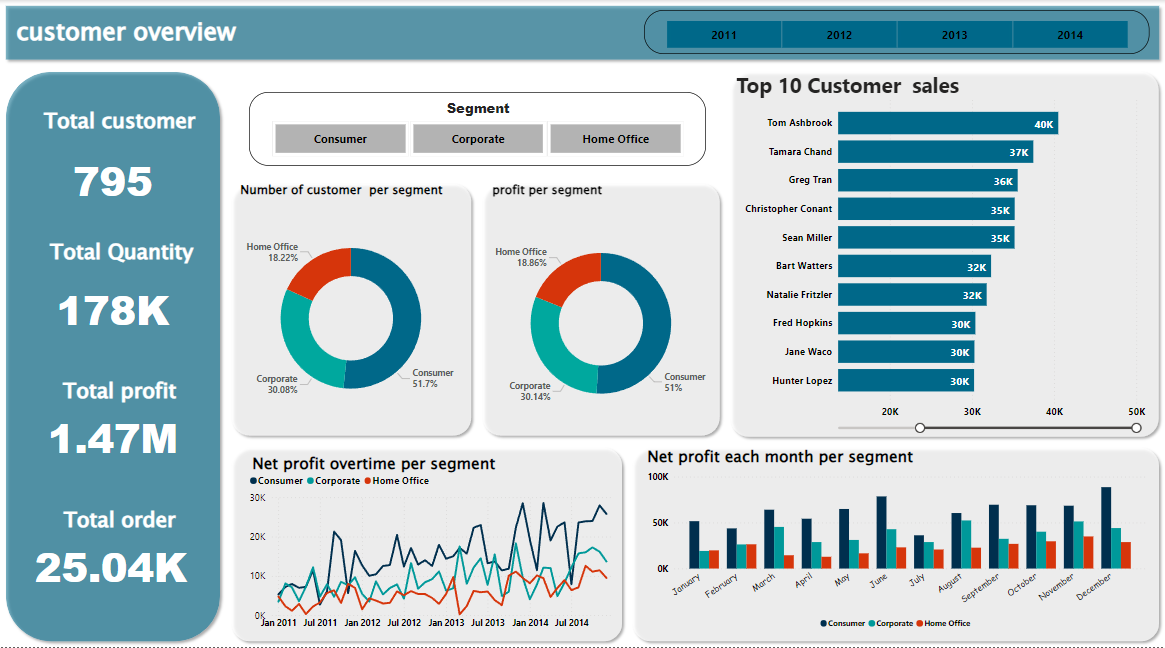

This screenshot's page, from the dashboard's own definition file:
{"tool":"powerbi","page":{"name":"customer","canvas":[1800,1000],"ordinal":0},"visuals":[{"type":"shape","box":[0,101.4,348.6,898.2],"z":0},{"type":"shape","box":[348.6,683,620.8,316.6],"z":1000},{"type":"shape","box":[969.4,683,830.6,316.6],"z":2000},{"type":"shape","box":[736.4,275.7,384.2,407.3],"z":3000},{"type":"shape","box":[0,0,1800,101.1],"z":4000},{"type":"shape","box":[1120.6,101.4,679.4,581.6],"z":5000},{"type":"textbox","box":[19.6,16,375.3,67.6],"z":6000},{"type":"card","fields":{"Values":["Count(FOrder.customerID)"]},"box":[23.1,225.9,302.4,99.6],"z":7000},{"type":"card","fields":{"Values":["Sum(FOrder.Quantity)"]},"box":[23.1,424.5,302.4,99.6],"z":8000},{"type":"card","fields":{"Values":["Count(FOrder.orderID)"]},"box":[19.6,821.7,302.4,99.6],"z":9000},{"type":"card","fields":{"Values":["Sum(FOrder.profit)"]},"box":[23.1,623.1,302.4,99.6],"z":10000},{"type":"shape","box":[348.6,275.7,387.7,407.3],"z":11000},{"type":"barChart","fields":{"Category":["Customer.customerName"],"Y":["Sum(FOrder.Sales)"]},"box":[1145.5,142.3,629.6,530],"z":12000},{"type":"donutChart","fields":{"Category":["Customer.Segment"],"Y":["CountNonNull(FOrder.customerID)"]},"box":[366.4,318.4,352.2,346.8],"z":13000},{"type":"lineChart","fields":{"Series":["Customer.Segment"],"Y":["Sum(FOrder.profit)"],"Category":["Data.orderDate.Variation.Date Hierarchy.Year","Data.orderDate.Variation.Date Hierarchy.Month"]},"box":[380.6,722.1,588.7,259.7],"z":14000},{"type":"clusteredColumnChart","fields":{"Series":["Customer.Segment"],"Y":["Sum(FOrder.profit)"],"Category":["Data.orderDate.Variation.Date Hierarchy.Month"]},"box":[994.3,722.1,780.8,259.7],"z":15000},{"type":"slicer","title":"Segment","fields":{"Values":["Customer.Segment"]},"box":[384.2,142.3,706.1,113.8],"z":16000},{"type":"slicer","title":"Segment","fields":{"Values":["Data.Year"]},"box":[994.3,16,780.8,67.6],"z":17000},{"type":"donutChart","fields":{"Category":["Customer.Segment"],"Y":["Sum(FOrder.profit)"]},"box":[752.4,325.5,352.2,346.8],"z":18000},{"type":"textbox","box":[48,158.3,273.9,67.6],"z":19000},{"type":"textbox","box":[51.6,359.3,273.9,67.6],"z":20000},{"type":"textbox","box":[48,574.5,273.9,67.6],"z":21000},{"type":"textbox","box":[48,773.7,273.9,67.6],"z":21001},{"type":"textbox","box":[384.2,693.7,476.7,55.1],"z":21002},{"type":"textbox","box":[994.3,683,476.7,55.1],"z":21003},{"type":"textbox","box":[366.4,275.7,476.7,55.1],"z":21004},{"type":"textbox","box":[755.9,275.7,476.7,55.1],"z":21005},{"type":"textbox","box":[1133,103.2,476.7,55.1],"z":21006}]}

Visuals, with their boxes in screenshot pixels (x1, y1, x2, y2), scaled from the page's 1800x1000 canvas onto the 1165x648 screenshot:
shape: 0, 66, 226, 647
shape: 226, 443, 627, 647
shape: 627, 443, 1164, 647
shape: 477, 179, 725, 443
shape: 0, 0, 1164, 66
shape: 725, 66, 1164, 443
textbox: 13, 10, 256, 54
card - Count(FOrder.customerID): 15, 146, 211, 211
card - Sum(FOrder.Quantity): 15, 275, 211, 340
card - Count(FOrder.orderID): 13, 532, 208, 597
card - Sum(FOrder.profit): 15, 404, 211, 468
shape: 226, 179, 477, 443
barChart - Customer.customerName x Sum(FOrder.Sales): 741, 92, 1149, 436
donutChart - Customer.Segment x CountNonNull(FOrder.customerID): 237, 206, 465, 431
lineChart - Customer.Segment x Sum(FOrder.profit): 246, 468, 627, 636
clusteredColumnChart - Customer.Segment x Sum(FOrder.profit): 644, 468, 1149, 636
"Segment" slicer: 249, 92, 706, 166
"Segment" slicer: 644, 10, 1149, 54
donutChart - Customer.Segment x Sum(FOrder.profit): 487, 211, 715, 436
textbox: 31, 103, 208, 146
textbox: 33, 233, 211, 277
textbox: 31, 372, 208, 416
textbox: 31, 501, 208, 545
textbox: 249, 450, 557, 485
textbox: 644, 443, 952, 478
textbox: 237, 179, 546, 214
textbox: 489, 179, 798, 214
textbox: 733, 67, 1042, 103
